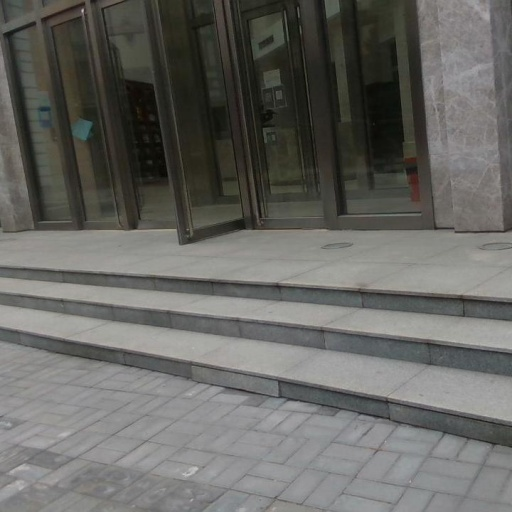Stairs: (0, 230, 512, 512)
